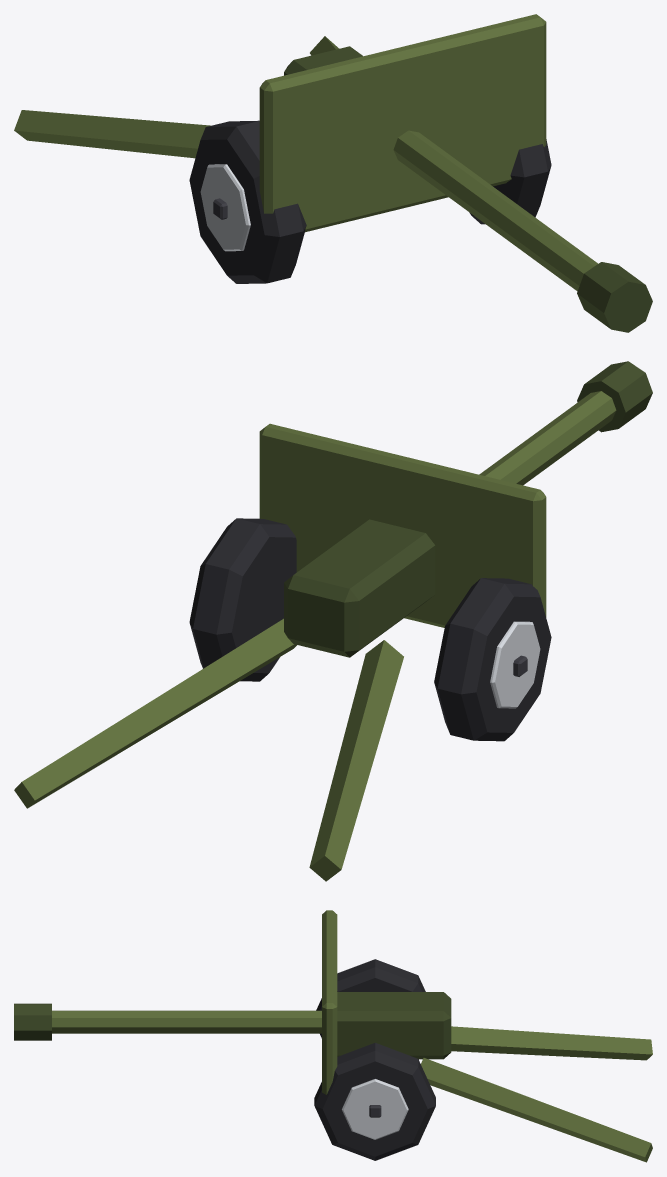
File: AntiTankGun.fbx
The picture shows the model from 3 angles, top to bottom: view 1: azimuth 30°, elevation 25°; view 2: azimuth 150°, elevation 25°; view 3: azimuth 270°, elevation 25°; orthographic projection. The views are drawn at different scales.
Visible parts, largest first — view 1: AntiTankGun, AntiTankGun_Barrel, AntiTankGun_WheelR, AntiTankGun_WheelL; view 2: AntiTankGun, AntiTankGun_Barrel, AntiTankGun_WheelR, AntiTankGun_WheelL; view 3: AntiTankGun_Barrel, AntiTankGun, AntiTankGun_WheelL, AntiTankGun_WheelR.
Boxes of the visible parts, <box> form: AntiTankGun: <box>14,14,546,232</box>; AntiTankGun_Barrel: <box>284,46,652,332</box>; AntiTankGun_WheelR: <box>189,120,306,283</box>; AntiTankGun_WheelL: <box>469,139,551,224</box>; AntiTankGun: <box>14,423,546,881</box>; AntiTankGun_Barrel: <box>284,361,652,657</box>; AntiTankGun_WheelR: <box>434,578,551,741</box>; AntiTankGun_WheelL: <box>189,518,296,681</box>; AntiTankGun_Barrel: <box>14,992,451,1059</box>; AntiTankGun: <box>322,910,652,1162</box>; AntiTankGun_WheelL: <box>314,1042,435,1160</box>; AntiTankGun_WheelR: <box>316,959,425,1059</box>.
Bounding box in the file's own units: 3.48 × 2.3 × 8.4.
1 material, 1 textured.
